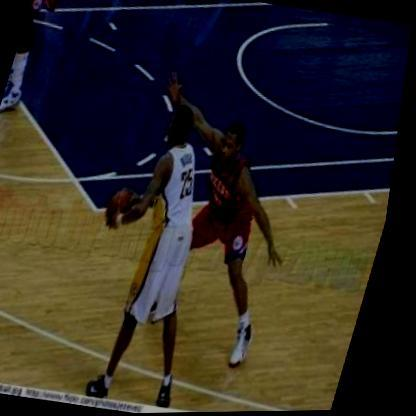basketball: (110, 185, 143, 223)
